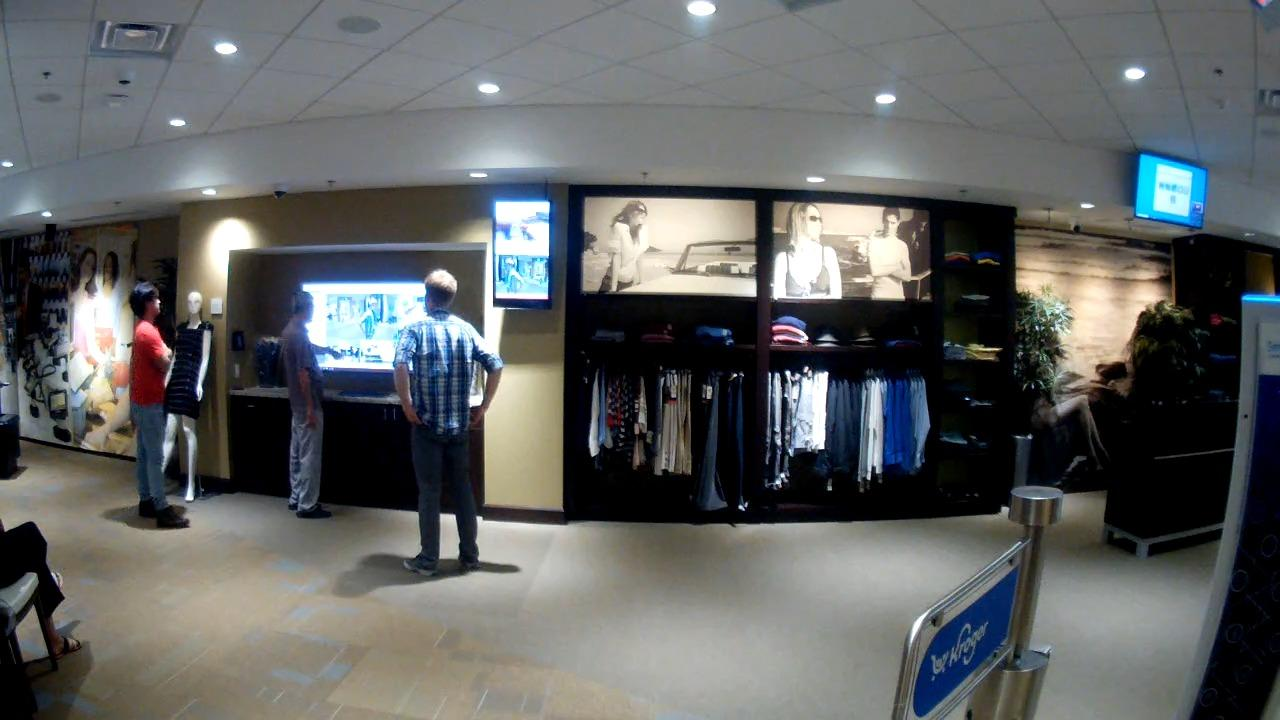normal: (386, 263, 503, 575), (274, 278, 348, 521), (125, 278, 189, 530), (152, 281, 215, 503)
